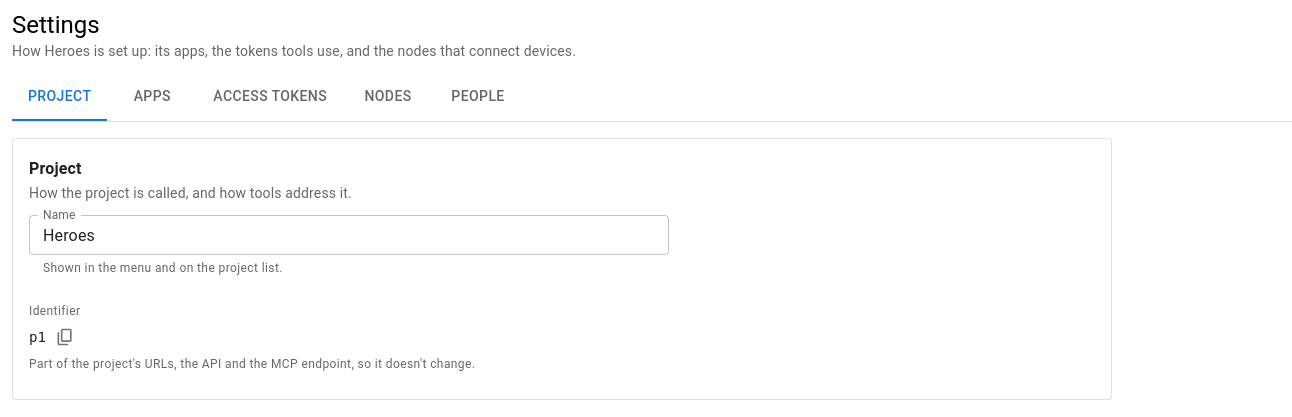
SettingsPage tabs: loads the Apps tab when it is picked
Step 1. Click the tab "Apps" → click(152, 97), box left=107, top=73, right=197, bottom=121
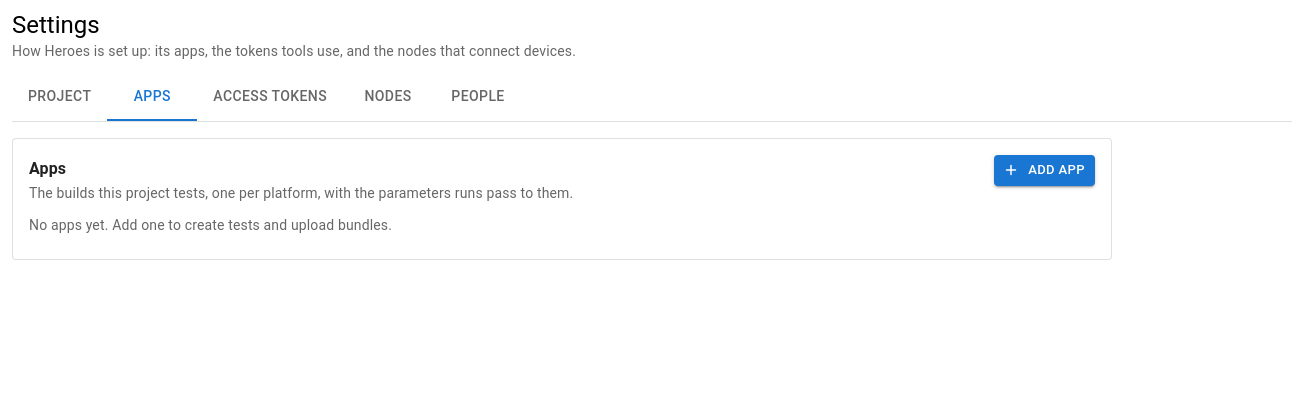
Result: the text "The builds this project tests" is shown at left=29, top=185, right=573, bottom=201
